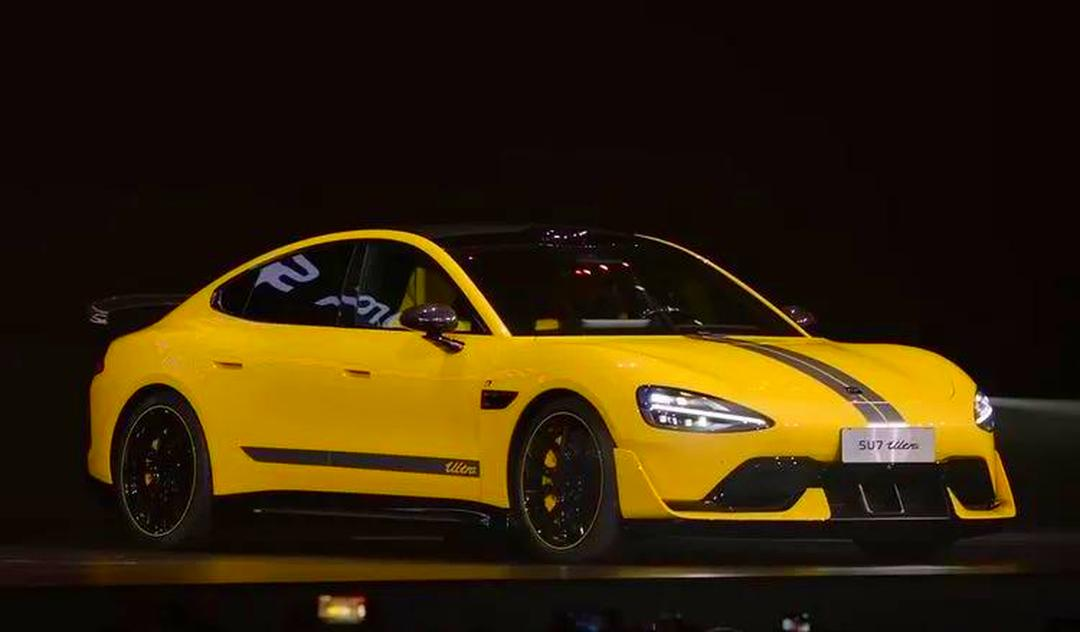su7: (80, 225, 1017, 569)
